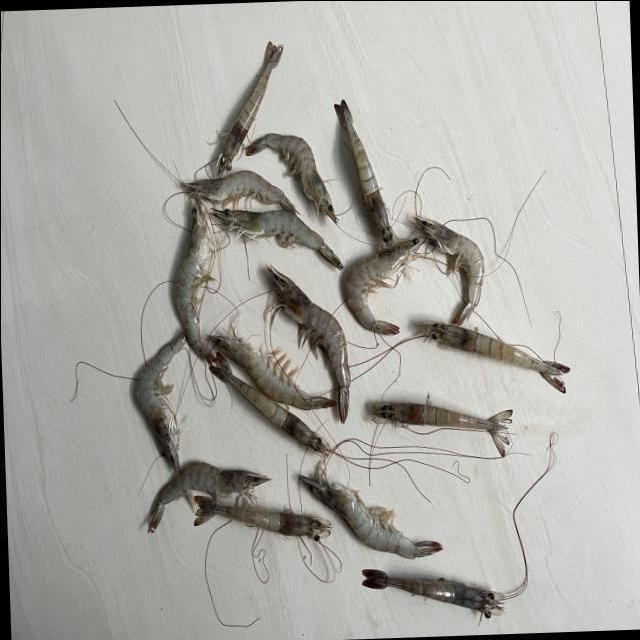shrimp: (300, 460, 442, 559), (266, 264, 350, 423), (422, 320, 570, 392), (334, 98, 399, 246), (218, 371, 330, 455), (209, 335, 335, 409), (215, 40, 282, 176), (147, 462, 269, 532), (244, 132, 337, 223), (371, 399, 513, 456), (211, 208, 342, 269), (362, 570, 520, 619), (414, 216, 484, 325), (346, 237, 424, 334), (135, 330, 185, 474), (175, 198, 214, 363), (193, 496, 331, 541), (180, 169, 296, 212)
